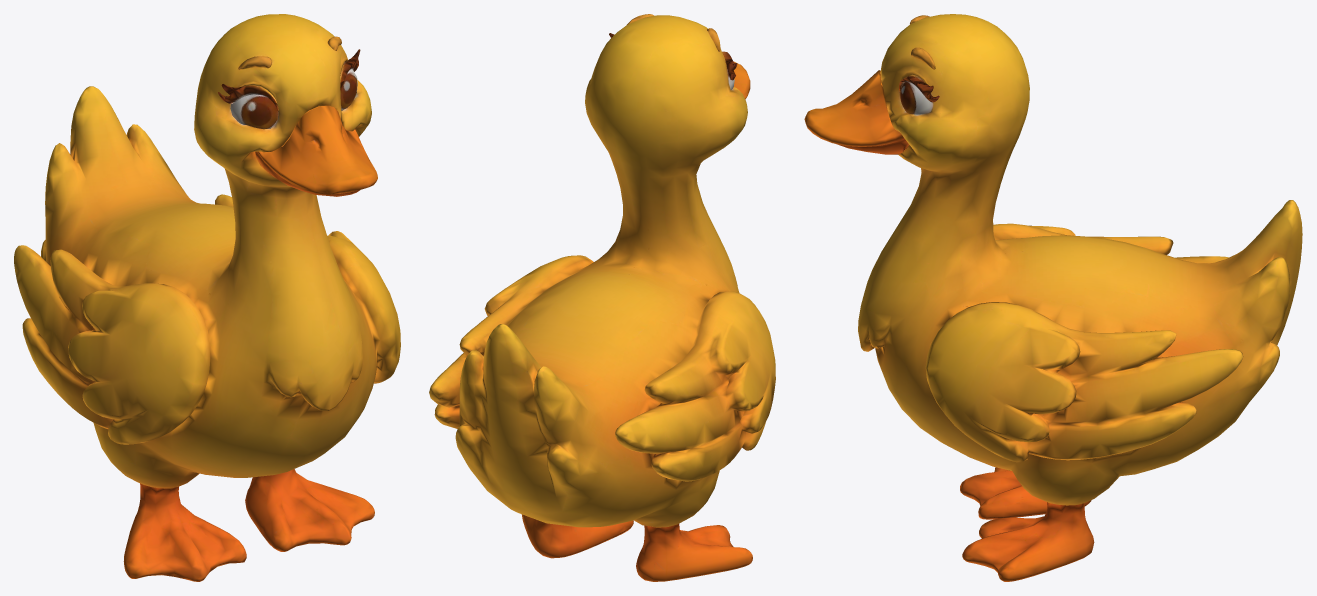
The model's file is golden_goose_v2.glb.
3 renders of one model, left to right at view 1: azimuth 30°, elevation 25°; view 2: azimuth 150°, elevation 25°; view 3: azimuth 270°, elevation 25°, orthographic. The views are drawn at different scales.
Visible parts, largest first — view 1: golden_goose; view 2: golden_goose; view 3: golden_goose.
Part boxes in pixels (x1=…): golden_goose: x1=14, y1=14, x2=400, y2=581; golden_goose: x1=429, y1=14, x2=775, y2=581; golden_goose: x1=804, y1=14, x2=1302, y2=581.
Size of the model in its own units: 0.4616 by 0.8 by 0.7132.
Materials: 1 (1 with a texture image).
